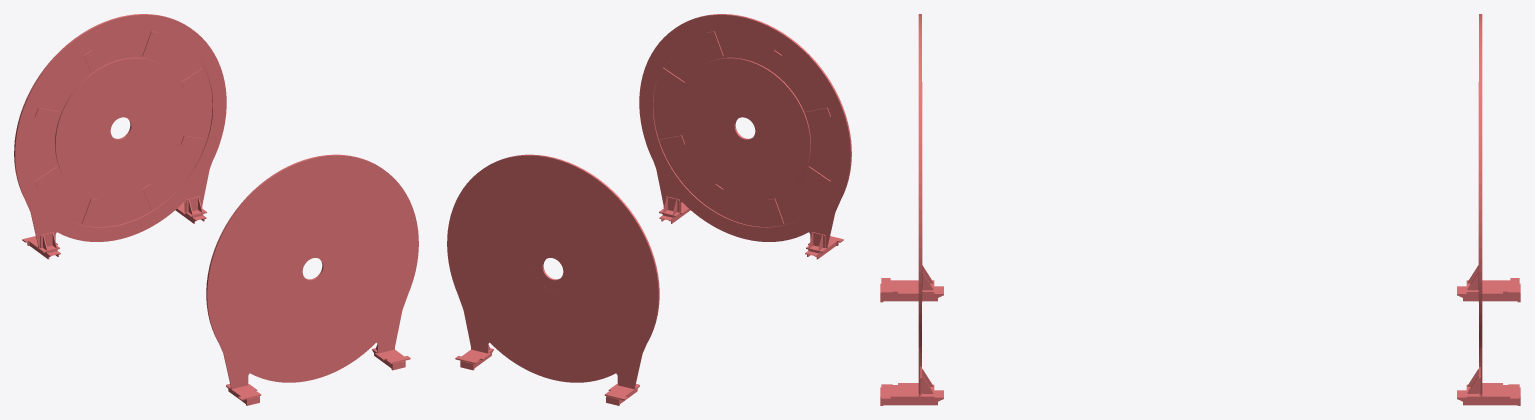
Rendered from Small-Wheel-NJD.gltf.
The picture shows the model from 3 angles, left to right: view 1: azimuth 30°, elevation 25°; view 2: azimuth 150°, elevation 25°; view 3: azimuth 270°, elevation 25°; orthographic projection. The views are drawn at different scales.
Visible parts, largest first — view 1: _1F3E0338; view 2: _1F3E0338; view 3: _1F3E0338.
Boxes of the visible parts, left/top/right/bottom form: _1F3E0338: left=14, top=14, right=418, bottom=405; _1F3E0338: left=447, top=14, right=851, bottom=405; _1F3E0338: left=880, top=14, right=1520, bottom=405.
Bounding box in the file's own units: 8.72 × 8.72 × 15.67.
